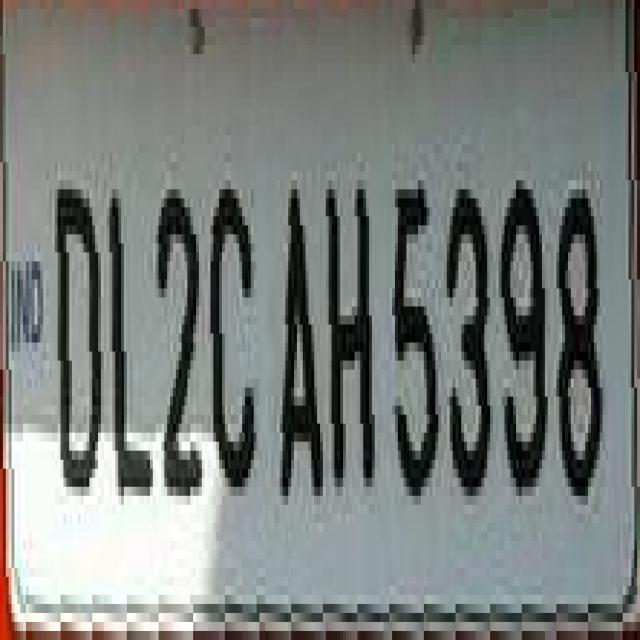license_plate: (0, 36, 611, 613)
